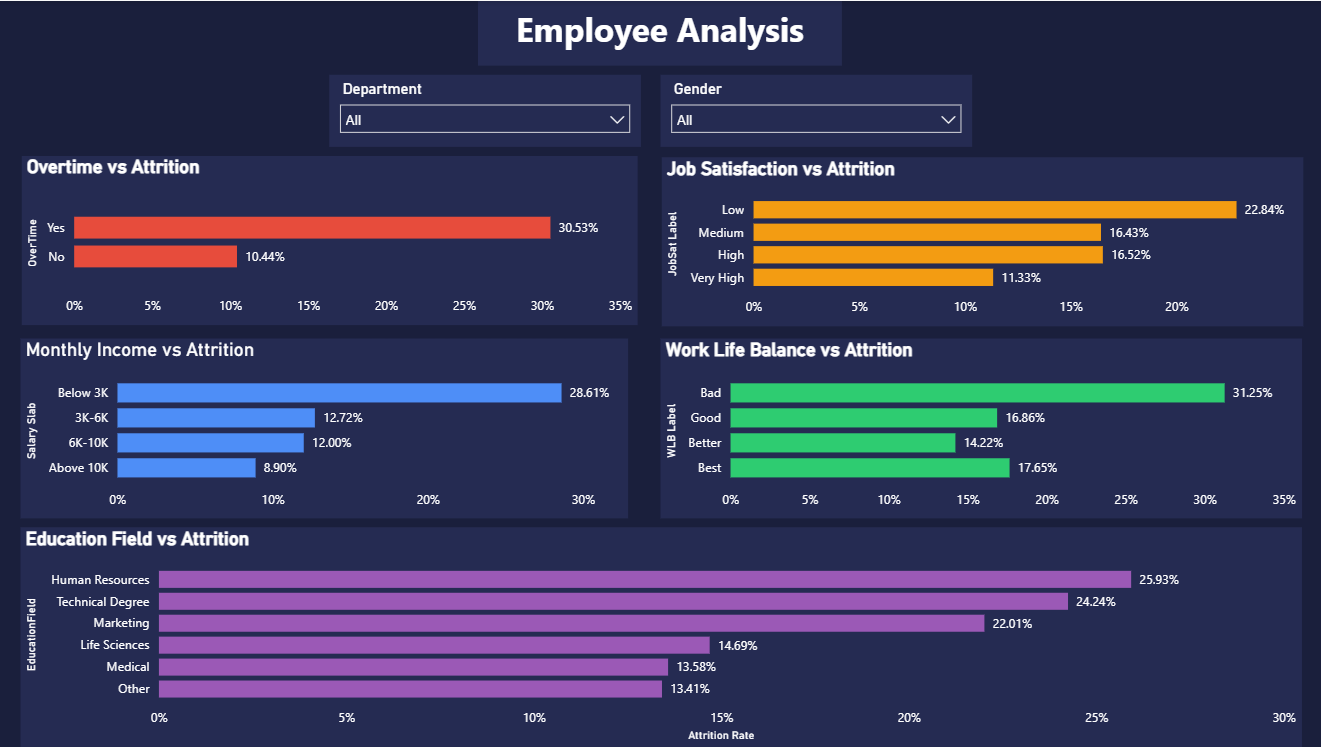

The dashboard page shown, as its layout file describes it:
{"tool":"powerbi","page":{"name":"Employee Analysis","canvas":[1280,720],"ordinal":1},"visuals":[{"type":"textbox","box":[463.3,0,351.1,62.7],"z":0},{"type":"clusteredBarChart","title":"Overtime vs Attrition","fields":{"Category":["hr_analytics hr_data.OverTime"],"Y":["hr_analytics hr_data.Attrition Rate"]},"box":[22.9,149.6,594.8,162.9],"z":1000},{"type":"clusteredBarChart","title":"Job Satisfaction vs Attrition","fields":{"Y":["hr_analytics hr_data.Attrition Rate"],"Category":["hr_analytics hr_data.JobSat Label"]},"box":[640.6,150.8,618.9,162.9],"z":2000},{"type":"clusteredBarChart","title":"Monthly Income vs Attrition","fields":{"Category":["hr_analytics hr_data.Salary Slab"],"Y":["hr_analytics hr_data.Attrition Rate"]},"box":[21.7,325.7,586.3,173.7],"z":3000},{"type":"clusteredBarChart","title":"Work Life Balance vs Attrition","fields":{"Y":["hr_analytics hr_data.Attrition Rate"],"Category":["hr_analytics hr_data.WLB Label"]},"box":[639.4,325.7,618.9,173.7],"z":4000},{"type":"clusteredBarChart","title":"Education Field vs Attrition","fields":{"Category":["hr_analytics hr_data.EducationField"],"Y":["hr_analytics hr_data.Attrition Rate"]},"box":[21.7,507.9,1236.6,212.3],"z":5000},{"type":"slicer","fields":{"Values":["hr_analytics hr_data.Department"]},"box":[319.7,71.2,300.4,70],"z":6000},{"type":"slicer","fields":{"Values":["hr_analytics hr_data.Gender"]},"box":[639.4,71.2,300.4,70],"z":7000}]}

Visuals, with their boxes in screenshot pixels (x1, y1, x2, y2), scaled from the page's 1280x720 canvas onto the 1321x747 screenshot:
textbox: [x1=478, y1=0, x2=840, y2=65]
"Overtime vs Attrition" clusteredBarChart: [x1=24, y1=155, x2=637, y2=324]
"Job Satisfaction vs Attrition" clusteredBarChart: [x1=661, y1=156, x2=1300, y2=325]
"Monthly Income vs Attrition" clusteredBarChart: [x1=22, y1=338, x2=627, y2=518]
"Work Life Balance vs Attrition" clusteredBarChart: [x1=660, y1=338, x2=1299, y2=518]
"Education Field vs Attrition" clusteredBarChart: [x1=22, y1=527, x2=1299, y2=746]
slicer - hr_analytics hr_data.Department: [x1=330, y1=74, x2=640, y2=146]
slicer - hr_analytics hr_data.Gender: [x1=660, y1=74, x2=970, y2=146]
